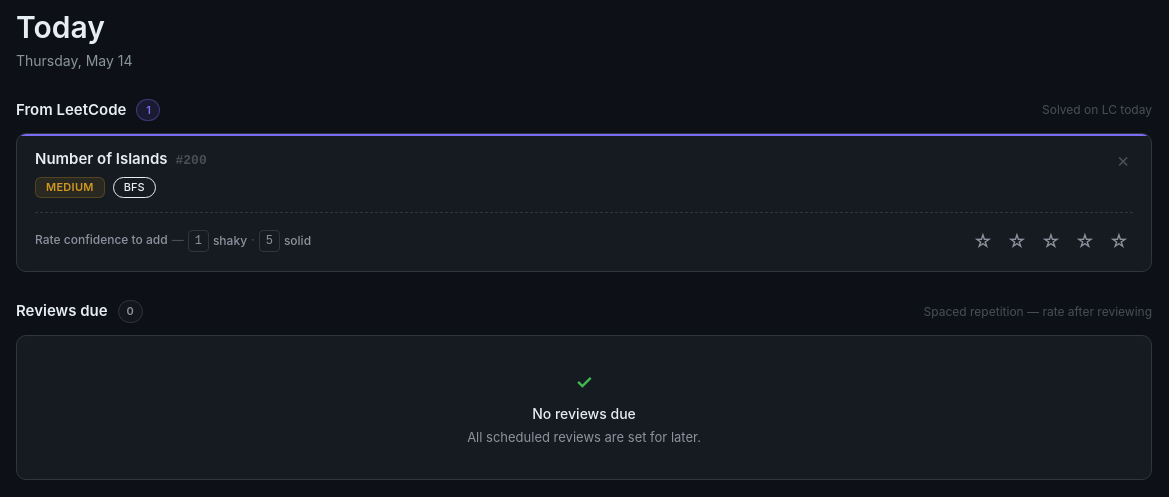
Test: TodayView › removes a pending From LeetCode card after import when parent state records imported activity
Click the radio button named "Import Number of Islands with 4-star confidence". click: click(1085, 241)
box: [1071,227,1099,255]
Wait 241 ms
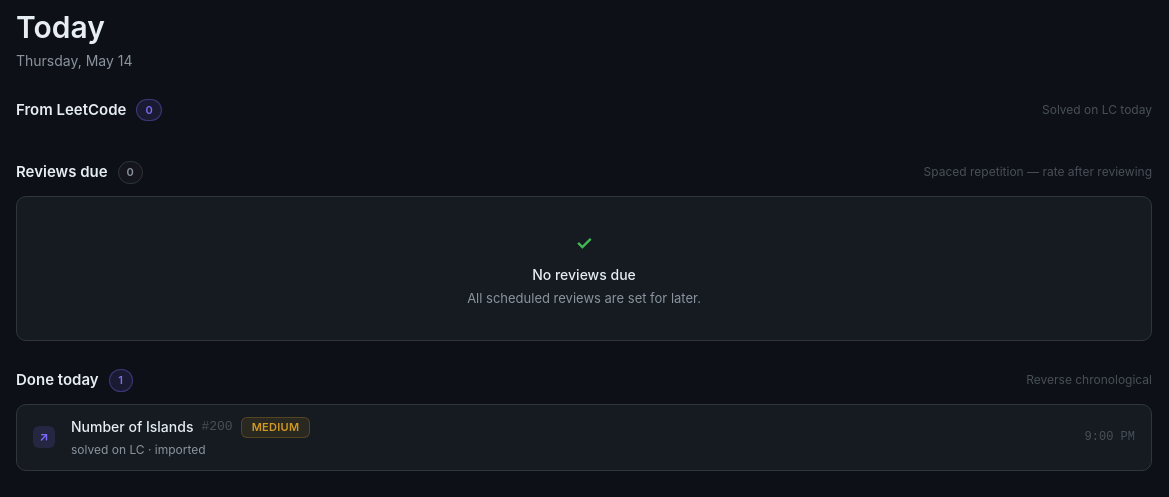
Check: the heading "From LeetCode" is shown, box [16,98,126,121]
Check: the text "solved on LC · imported" is shown, box [71,442,206,458]
